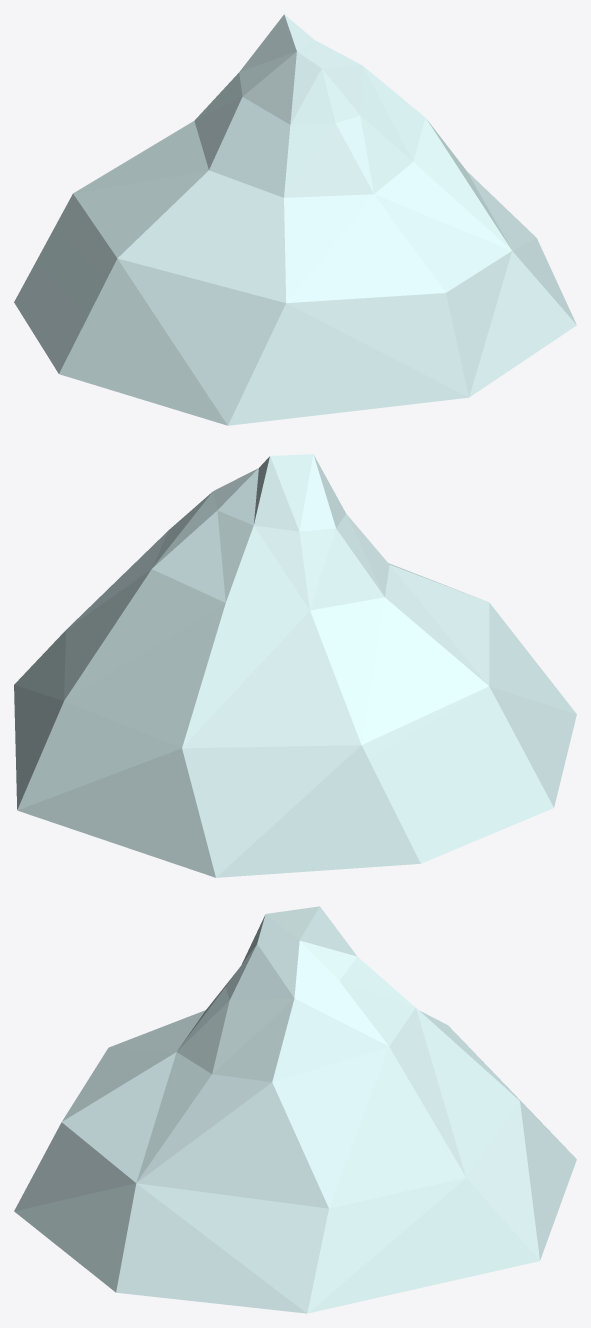
The model's file is deposit-salt.glb.
3 views of the same model, one above another, from view 1: azimuth 30°, elevation 25°; view 2: azimuth 150°, elevation 25°; view 3: azimuth 270°, elevation 25° (orthographic). The views are drawn at different scales.
Parts seen in each view (by area): view 1: deposit-salt; view 2: deposit-salt; view 3: deposit-salt.
Boxes of the visible parts, bbox=[...] form: deposit-salt: bbox=[14, 14, 576, 425]; deposit-salt: bbox=[14, 454, 576, 877]; deposit-salt: bbox=[14, 906, 576, 1313].
Size of the model in its own units: 1.25 by 0.6895 by 1.21.
Materials: 1 (1 with a texture image).
